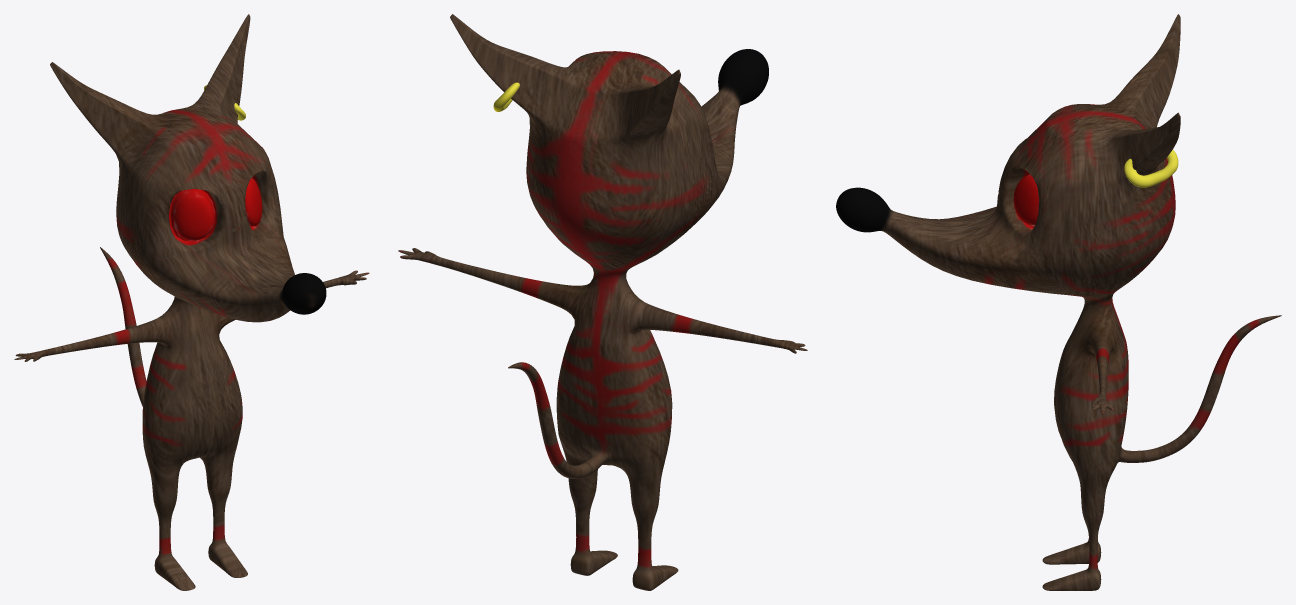
The model's file is enemigo2.obj.
The picture shows the model from 3 angles, left to right: view 1: azimuth 30°, elevation 25°; view 2: azimuth 150°, elevation 25°; view 3: azimuth 270°, elevation 25°; orthographic projection. The views are drawn at different scales.
Parts seen in each view (by area): view 1: pCylinder2; view 2: pCylinder2; view 3: pCylinder2.
Boxes of the visible parts, x1,y1,x2,y2 form: pCylinder2: [14, 14, 369, 590]; pCylinder2: [398, 14, 807, 590]; pCylinder2: [836, 14, 1281, 590].
Bounding box in the file's own units: 0.9839 × 1.32 × 1.04.
Materials: 1 (1 with a texture image).
